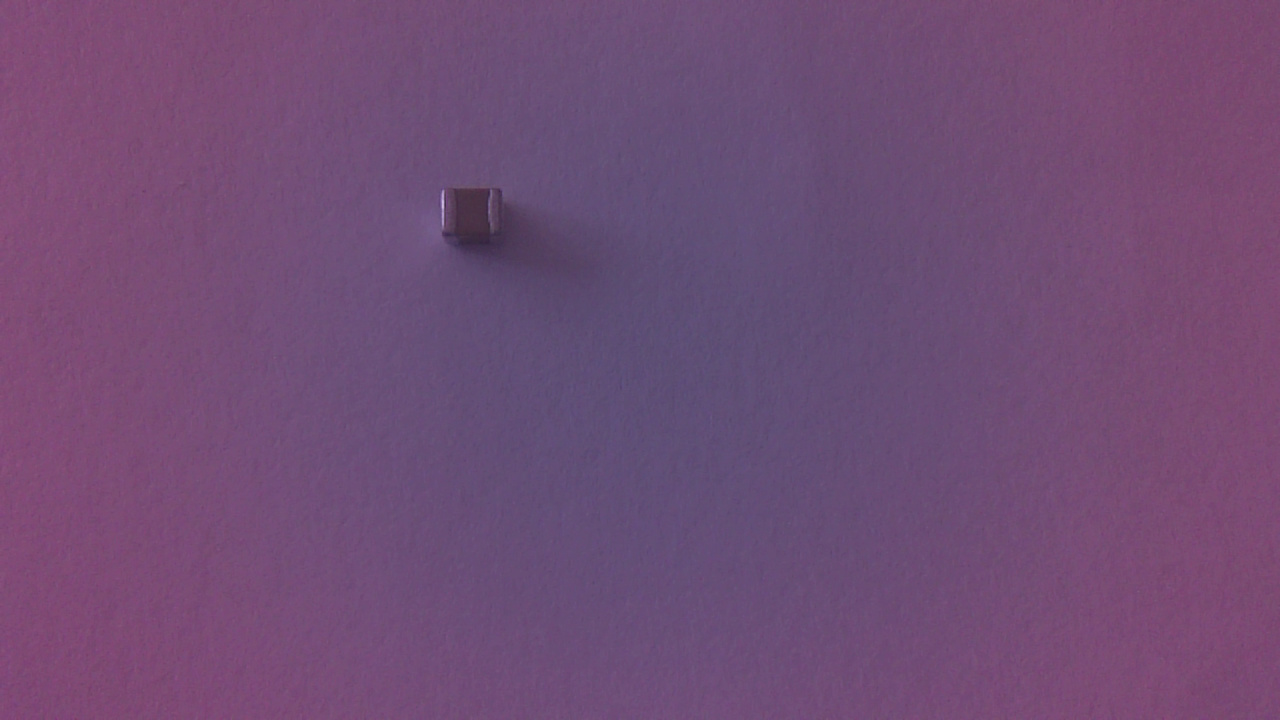Condensator: (440, 183, 515, 257)
